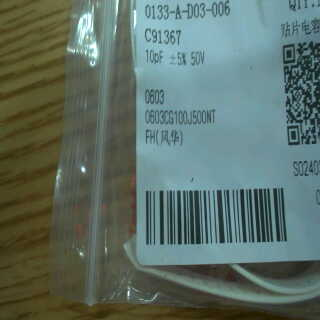10pF: (144, 49, 167, 64)
